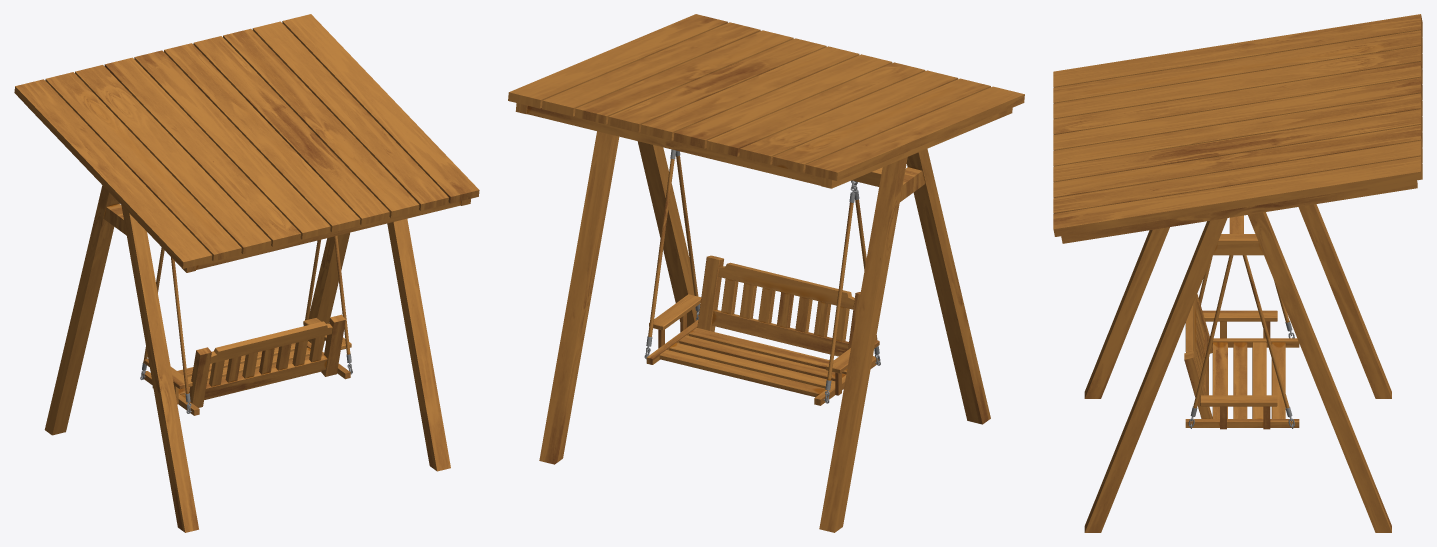
File: SwingChair.fbx
3 views of the same model, side by side, from view 1: azimuth 30°, elevation 25°; view 2: azimuth 150°, elevation 25°; view 3: azimuth 270°, elevation 25° (orthographic). The views are drawn at different scales.
Visible parts, largest first — view 1: Roof, pillar, Chair, Wire, RoofFlame; view 2: Roof, pillar, Chair, RoofFlame, Wire; view 3: Roof, pillar, Chair, RoofFlame, Wire.
Part boxes in pixels (x1,y1,x2,y2): Roof: (14, 14, 479, 268); pillar: (44, 185, 450, 532); Chair: (142, 314, 351, 415); Wire: (141, 236, 351, 407); RoofFlame: (24, 103, 470, 272); Roof: (508, 14, 1024, 180); pillar: (539, 131, 990, 532); Chair: (646, 255, 879, 405); RoofFlame: (515, 103, 1012, 188); Wire: (646, 149, 879, 395); Roof: (1053, 14, 1422, 236); pillar: (1084, 204, 1391, 532); Chair: (1184, 294, 1299, 429); RoofFlame: (1061, 180, 1417, 243); Wire: (1190, 255, 1292, 421).
Size of the model in its own units: 150 by 163 by 148.
1 material, 1 textured.
